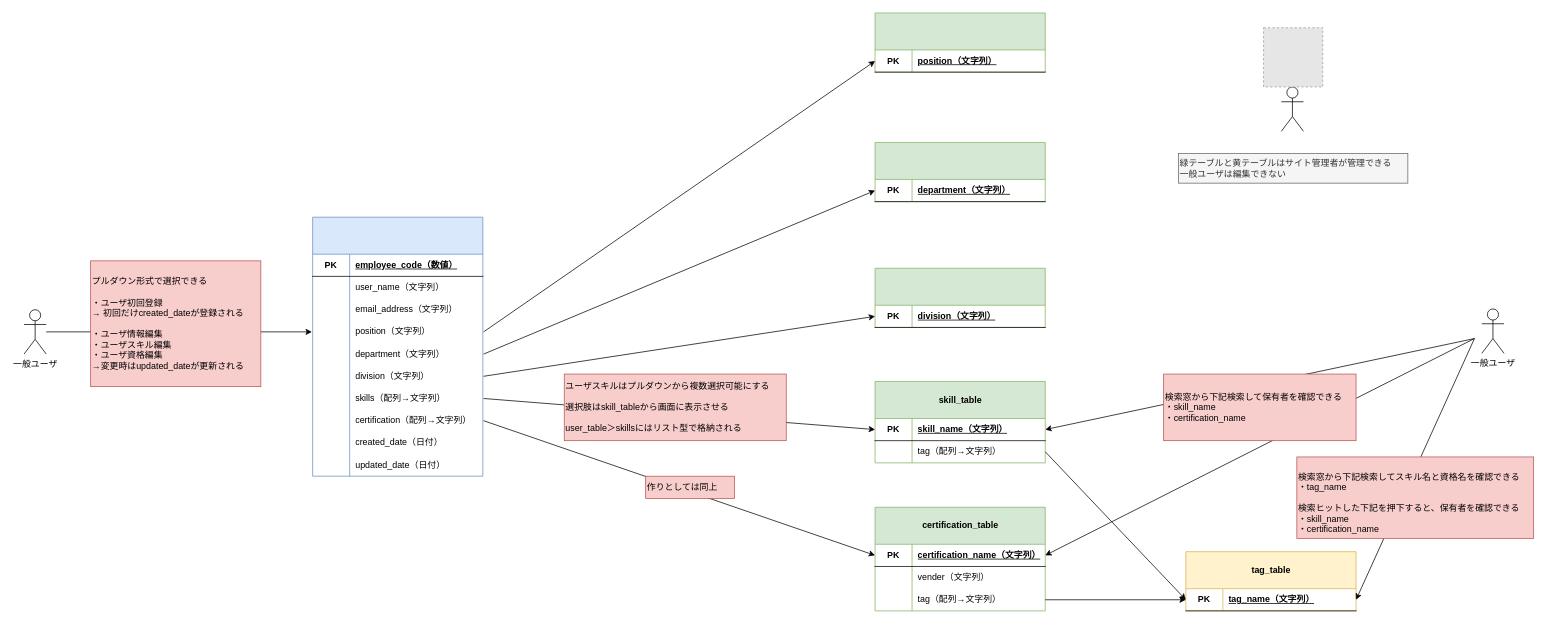
Some shapes in this 1547 by 624 pixel diagram are drawn without their labels. Grey dashed boxes stand in for pictures. Here are the shapes that lost their labels. From the top down, the box of each, then its label:
(874, 12, 1045, 72): position_table
(1281, 86, 1304, 131): サイト管理者
(874, 142, 1045, 202): department_table
(874, 268, 1045, 327): division_table
(312, 216, 483, 476): user_table
